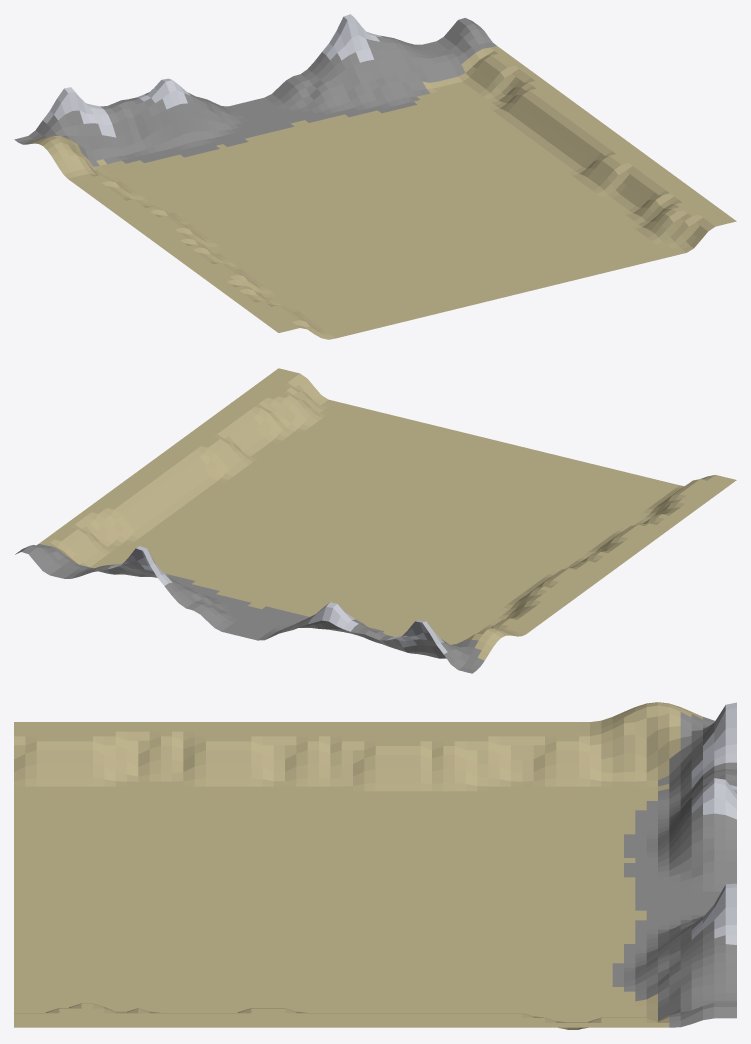
File: Motorcycle Background.fbx
The picture shows the model from 3 angles, top to bottom: view 1: azimuth 30°, elevation 25°; view 2: azimuth 150°, elevation 25°; view 3: azimuth 270°, elevation 25°; orthographic projection. The views are drawn at different scales.
Visible parts, largest first — view 1: Background Object; view 2: Background Object; view 3: Background Object.
Part boxes in pixels (bbox=[...]): Background Object: bbox=[14, 14, 736, 339]; Background Object: bbox=[15, 368, 736, 673]; Background Object: bbox=[14, 702, 736, 1029].
Bounding box in the file's own units: 9996 × 1302 × 9996.
